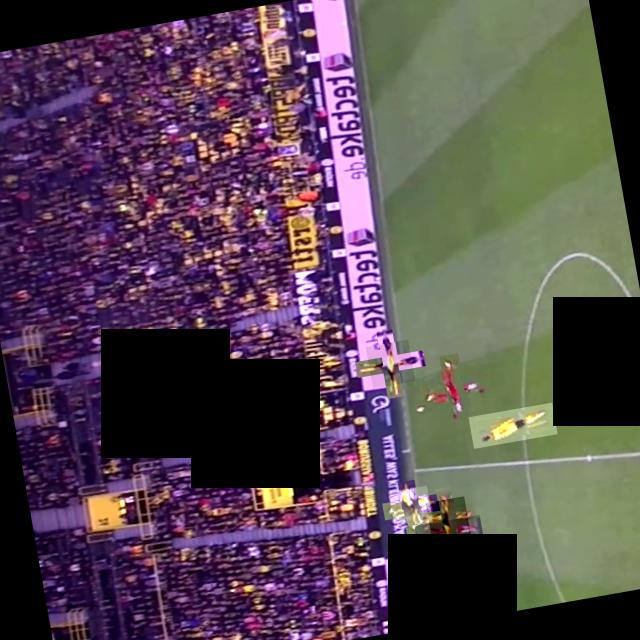ball: (412, 402, 432, 414)
soccer-player: (467, 402, 556, 448), (561, 334, 640, 385), (424, 361, 482, 418), (364, 339, 414, 388), (414, 514, 482, 546), (401, 565, 447, 611), (424, 496, 470, 541), (387, 486, 432, 528)
